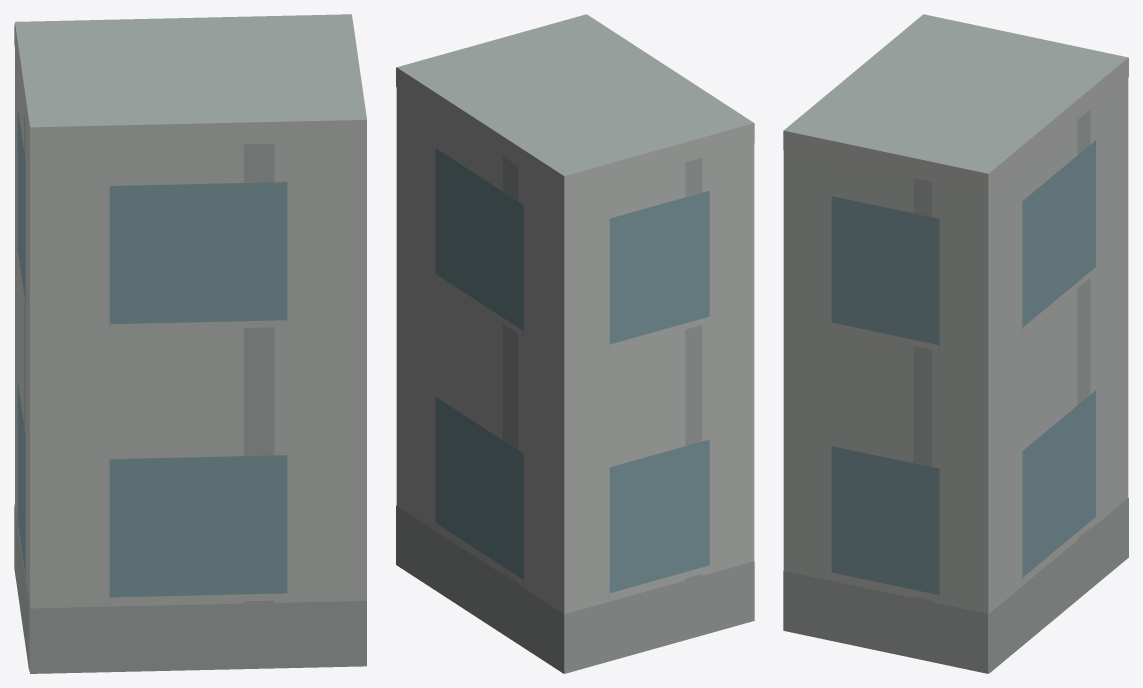
Rendered from survey-upis-32974159.glb.
The picture shows the model from 3 angles, left to right: view 1: azimuth 30°, elevation 25°; view 2: azimuth 150°, elevation 25°; view 3: azimuth 270°, elevation 25°; orthographic projection. The views are drawn at different scales.
Parts seen in each view (by area): view 1: survey-upis-32974159.tmp; view 2: survey-upis-32974159.tmp; view 3: survey-upis-32974159.tmp.
Boxes of the visible parts, x1,y1,x2,y2 form: survey-upis-32974159.tmp: (14,14,366,673); survey-upis-32974159.tmp: (396,14,754,673); survey-upis-32974159.tmp: (783,14,1128,673).
Size of the model in its own units: 4.19 by 6.1 by 3.82.
